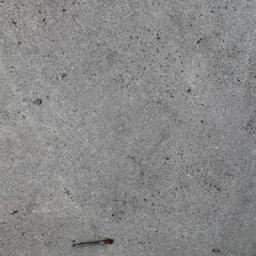FOD: (70, 237, 117, 250)
